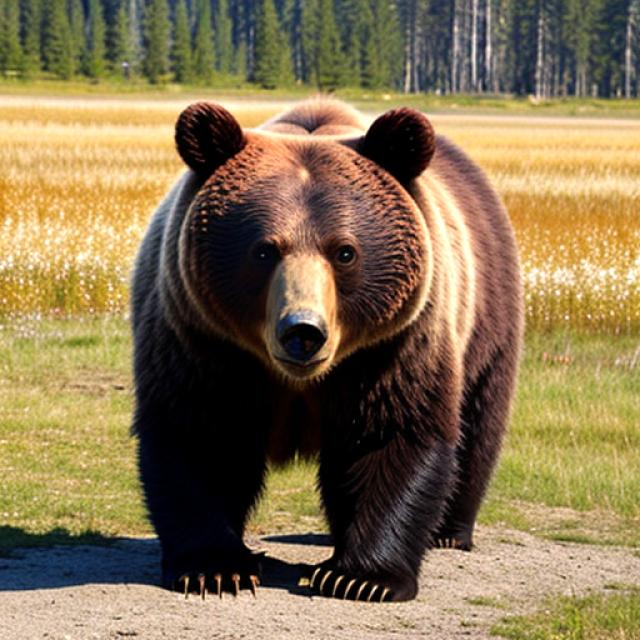bear: (154, 94, 462, 392)
